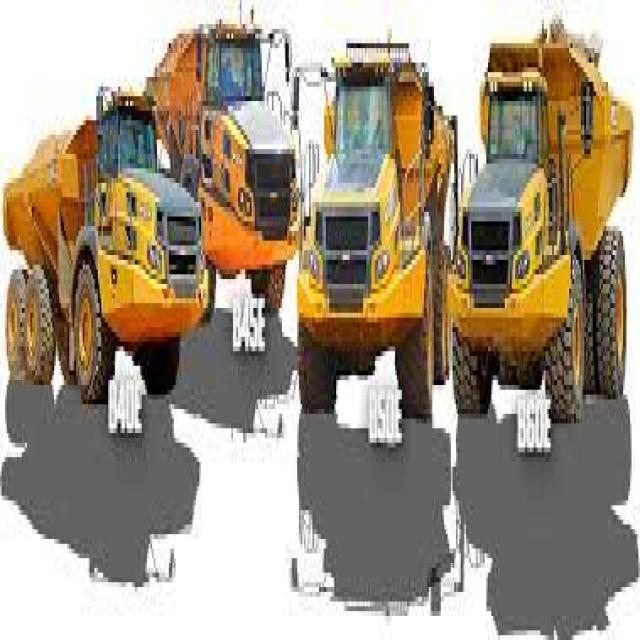dump_truck: (452, 10, 638, 442), (0, 72, 208, 448), (294, 0, 449, 443), (142, 5, 314, 322)
